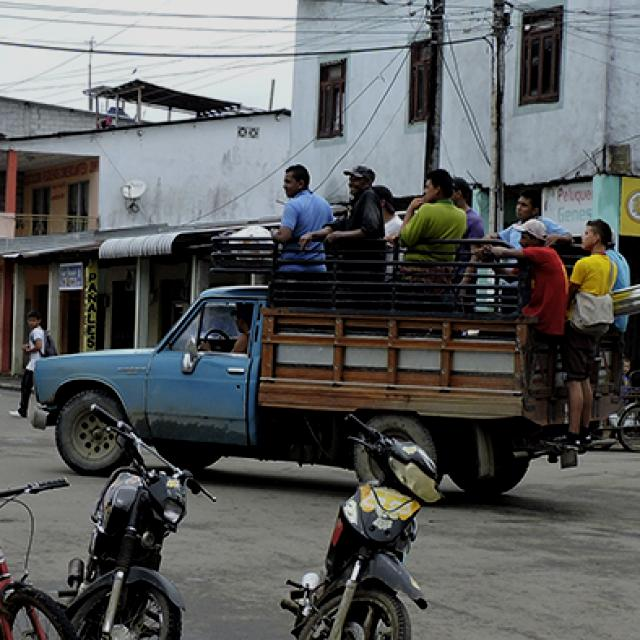CMT: (21, 250, 604, 489)
MOTORCYCLE: (284, 413, 442, 637), (55, 466, 236, 640)
